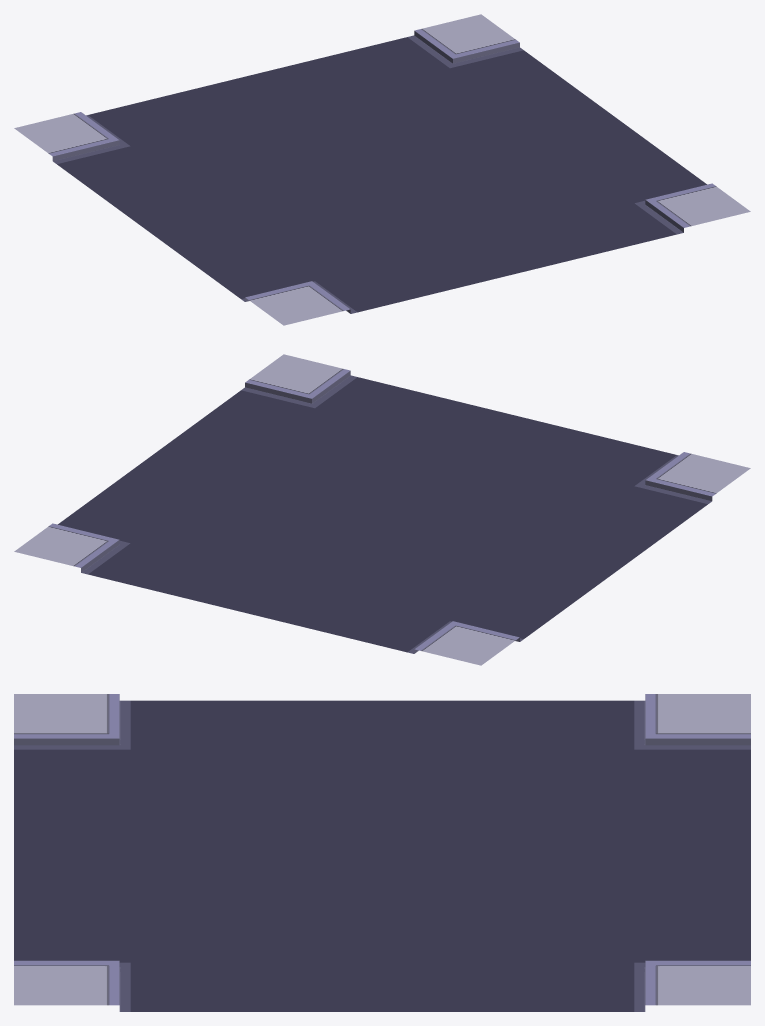
The model's file is block_4.fbx.
3 views of the same model, one above another, from view 1: azimuth 30°, elevation 25°; view 2: azimuth 150°, elevation 25°; view 3: azimuth 270°, elevation 25° (orthographic). The views are drawn at different scales.
Visible parts, largest first — view 1: Block_4; view 2: Block_4; view 3: Block_4.
Part boxes in pixels (x1=…): Block_4: x1=14, y1=14, x2=750, y2=325; Block_4: x1=14, y1=354, x2=750, y2=665; Block_4: x1=14, y1=694, x2=750, y2=1011.
Bounding box in the file's own units: 20 × 0.1948 × 20.
Materials: 1 (1 with a texture image).
